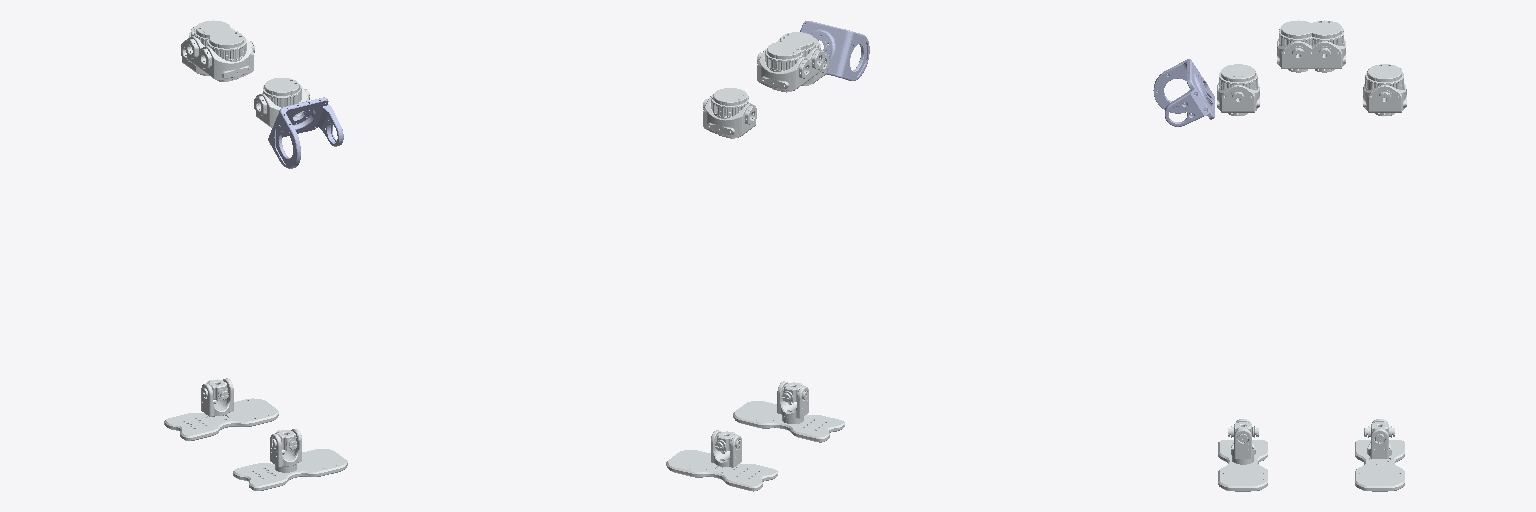
URDF robot description (fudan_humanoid):
<?xml version="1.0" encoding="utf-8"?>
<!-- This URDF was automatically created by SolidWorks to URDF Exporter! Originally created by [author] ([email redacted]) 
     Commit Version: 1.6.0-4-g7f85cfe  Build Version: 1.6.7995.38578
     For more information, please see http://wiki.ros.org/sw_urdf_exporter -->
<robot
  name="fudan_humanoid">
  <link
    name="base_link">
    <inertial>
      <origin
        xyz="0.00064614 0.0061342 0.13063"
        rpy="0 0 0" />
      <mass
        value="27.046" />
      <inertia
        ixx="1.4226"
        ixy="0.0028007"
        ixz="0.018165"
        iyy="1.0398"
        iyz="0.012265"
        izz="0.4681" />
    </inertial>
    <visual>
      <origin
        xyz="0 0 0"
        rpy="0 0 0" />
      <geometry>
        <mesh
          filename="../meshes/base_link.STL" />
      </geometry>
      <material
        name="">
        <color
          rgba="0.89804 0.91765 0.92941 1" />
      </material>
    </visual>
    <!-- <collision>
      <origin
        xyz="0 0 0"
        rpy="0 0 0" />
      <geometry>
        <mesh
          filename="../meshes/base_link.STL" />
      </geometry>
    </collision> -->
    <collision>
      <origin
        xyz="0 0. 0.1"
        rpy="0 0 0" />
      <geometry>
        <box size="0.4 0.4 0.4"/>
      </geometry>
    </collision>
  </link>
  <link
    name="left_leg_roll_link">
    <inertial>
      <origin
        xyz="-0.063328 0.10996 -0.062867"
        rpy="0 0 0" />
      <mass
        value="1.535" />
      <inertia
        ixx="0.002"
        ixy="0.0001925"
        ixz="-0.00011127"
        iyy="0.0015"
        iyz="-2.6116E-06"
        izz="0.0015" />
    </inertial>
    <visual>
      <origin
        xyz="0 0 0"
        rpy="0 0 0" />
      <geometry>
        <mesh
          filename="../meshes/left_leg_roll_link.STL" />
      </geometry>
      <material
        name="">
        <color
          rgba="0.89804 0.91765 0.92941 1" />
      </material>
    </visual>
    <collision>
      <origin
        xyz="0 0 0"
        rpy="0 0 0" />
      <geometry>
        <mesh
          filename="../meshes/left_leg_roll_link.STL" />
      </geometry>
    </collision>
  </link>
  <joint
    name="left_leg_roll_joint"
    type="revolute">
    <origin
      xyz="0 0.0264884942777566 -0.116000000000002"
      rpy="0 0 0" />
    <parent
      link="base_link" />
    <child
      link="left_leg_roll_link" />
    <axis
      xyz="0 -0.866025403784429 0.500000000000017" />
    <limit
      lower="-0.44"
      upper="1.57"
      effort="100"
      velocity="12" />
    <dynamics
      damping="0."
      friction="0." />
  </joint>
  <link
    name="left_leg_yaw_link">
    <inertial>
      <origin
        xyz="-0.057637 1.0925E-05 -0.006602"
        rpy="0 0 0" />
      <mass
        value="1.1586" />
      <inertia
        ixx="0.00071"
        ixy="4.0436E-07"
        ixz="5.5106E-07"
        iyy="0.00091"
        iyz="-2.5354E-08"
        izz="0.0014" />
    </inertial>
    <visual>
      <origin
        xyz="0 0 0"
        rpy="0 0 0" />
      <geometry>
        <mesh
          filename="../meshes/left_leg_yaw_link.STL" />
      </geometry>
      <material
        name="">
        <color
          rgba="0.89804 0.91765 0.92941 1" />
      </material>
    </visual>
    <collision>
      <origin
        xyz="0 0 0"
        rpy="0 0 0" />
      <geometry>
        <mesh
          filename="../meshes/left_leg_yaw_link.STL" />
      </geometry>
    </collision>
  </link>
  <joint
    name="left_leg_yaw_joint"
    type="revolute">
    <origin
      xyz="0.0579 0.119511505722243 -0.0689999999999984"
      rpy="0 0 0" />
    <parent
      link="left_leg_roll_link" />
    <child
      link="left_leg_yaw_link" />
    <axis
      xyz="1 0 0" />
    <limit
      lower="-1.05"
      upper="1.05"
      effort="100"
      velocity="12" />
    <dynamics
      damping="0."
      friction="0." />
  </joint>
  <link
    name="left_leg_pitch_link">
    <inertial>
      <origin
        xyz="0.00043634 0.0017182 -0.20249"
        rpy="0 0 0" />
      <mass
        value="3.6405" />
      <inertia
        ixx="0.0135"
        ixy="1.1779E-05"
        ixz="-3.6177E-05"
        iyy="0.0179"
        iyz="0.00028874"
        izz="0.0051" />
    </inertial>
    <visual>
      <origin
        xyz="0 0 0"
        rpy="0 0 0" />
      <geometry>
        <mesh
          filename="../meshes/left_leg_pitch_link.STL" />
      </geometry>
      <material
        name="">
        <color
          rgba="0.79216 0.81961 0.93333 1" />
      </material>
    </visual>
    <collision>
      <origin
        xyz="0 0 0"
        rpy="0 0 0" />
      <geometry>
        <mesh
          filename="../meshes/left_leg_pitch_link.STL" />
      </geometry>
    </collision>
  </link>
  <joint
    name="left_leg_pitch_joint"
    type="revolute">
    <origin
      xyz="-0.0579000000000937 0 0.0351"
      rpy="0 0 0" />
    <parent
      link="left_leg_yaw_link" />
    <child
      link="left_leg_pitch_link" />
    <axis
      xyz="0 0 1" />
   <limit
      lower="-1.57"
      upper="1.31"
      effort="250"
      velocity="12" />
    <dynamics
      damping="0."
      friction="0." />
  </joint>
  <link
    name="left_knee_link">
    <inertial>
      <origin
        xyz="0.0035379 -0.030016 -0.12582"
        rpy="0 0 0" />
      <mass
        value="2.7384" />
      <inertia
        ixx="0.018175"
        ixy="-3.7288E-06"
        ixz="0.00066617"
        iyy="0.019344"
        iyz="-1.8579E-05"
        izz="0.0016642" />
    </inertial>
    <visual>
      <origin
        xyz="0 0 0"
        rpy="0 0 0" />
      <geometry>
        <mesh
          filename="../meshes/left_knee_link.STL" />
      </geometry>
      <material
        name="">
        <color
          rgba="0.89804 0.91765 0.92941 1" />
      </material>
    </visual>
    <collision>
      <origin
        xyz="0 0 0"
        rpy="0 0 0" />
      <geometry>
        <mesh
          filename="../meshes/left_knee_link.STL" />
      </geometry>
    </collision>
  </link>
  <joint
    name="left_knee_joint"
    type="revolute">
    <origin
      xyz="0 0.0199999999998428 -0.4151"
      rpy="0 0 0" />
    <parent
      link="left_leg_pitch_link" />
    <child
      link="left_knee_link" />
    <axis
      xyz="0 1 0" />
    <limit
      lower="-1.05"
      upper="1.1"
      effort="250"
      velocity="12" />
    <dynamics
      damping="0."
      friction="0." />
  </joint>
  <link
    name="left_ankle_pitch_link">
    <inertial>
      <origin
        xyz="1.1404E-09 -0.0307 -2.5587E-10"
        rpy="0 0 0" />
      <mass
        value="0.12111" />
      <inertia
        ixx="1.5146E-05"
        ixy="2.6541E-14"
        ixz="-6.658E-13"
        iyy="1.5131E-05"
        iyz="-6.3545E-13"
        izz="1.6804E-05" />
    </inertial>
    <visual>
      <origin
        xyz="0 0 0"
        rpy="0 0 0" />
      <geometry>
        <mesh
          filename="../meshes/left_ankle_pitch_link.STL" />
      </geometry>
      <material
        name="">
        <color
          rgba="0.89804 0.91765 0.92941 1" />
      </material>
    </visual>
    <collision>
      <origin
        xyz="0 0 0"
        rpy="0 0 0" />
      <geometry>
        <mesh
          filename="../meshes/left_ankle_pitch_link.STL" />
      </geometry>
    </collision>
  </link>
  <joint
    name="left_ankle_pitch_joint"
    type="revolute">
    <origin
      xyz="0.015 0.000700000000000006 -0.37"
      rpy="0 0 0" />
    <parent
      link="left_knee_link" />
    <child
      link="left_ankle_pitch_link" />
    <axis
      xyz="0 1 0" />
    <limit
      lower="-0.44"
      upper="0.44"
      effort="100"
      velocity="12" />
    <dynamics
      damping="0."
      friction="0.1" />
  </joint>
  <link
    name="left_ankle_roll_link">
    <inertial>
      <origin
        xyz="-0.030692 0.00012078 -0.036331"
        rpy="0 0 0" />
      <mass
        value="0.21128" />
      <inertia
        ixx="7.0236E-05"
        ixy="2.1128E-08"
        ixz="1.1991E-08"
        iyy="0.00010632"
        iyz="1.2768E-07"
        izz="9.506E-05" />
    </inertial>
    <visual>
      <origin
        xyz="0 0 0"
        rpy="0 0 0" />
      <geometry>
        <mesh
          filename="../meshes/left_ankle_roll_link.STL" />
      </geometry>
      <material
        name="">
        <color
          rgba="0.89804 0.91765 0.92941 1" />
      </material>
    </visual>
    <collision>
      <origin
        xyz="0 0 0"
        rpy="0 0 0" />
      <geometry>
        <mesh
          filename="../meshes/left_ankle_roll_link.STL" />
      </geometry>
    </collision>
  </link>
  <joint
    name="left_ankle_roll_joint"
    type="revolute">
    <origin
      xyz="0.0307 -0.0307 0"
      rpy="0 0 0" />
    <parent
      link="left_ankle_pitch_link" />
    <child
      link="left_ankle_roll_link" />
    <axis
      xyz="1 0 0" />
    <limit
      lower="-0.44"
      upper="0.44"
      effort="100"
      velocity="12" />
    <dynamics
      damping="0."
      friction="0.1" />
  </joint>
  <link
    name="L_foot">
    <inertial>
      <origin
        xyz="0.016486 -3.9561E-06 0.0059825"
        rpy="0 0 0" />
      <mass
        value="0.58366" />
      <inertia
        ixx="0.00043428"
        ixy="2.1966E-07"
        ixz="1.6375E-06"
        iyy="0.0025408"
        iyz="1.4886E-09"
        izz="0.0029617" />
    </inertial>
    <visual>
      <origin
        xyz="0 0 0"
        rpy="0 0 0" />
      <geometry>
        <mesh
          filename="../meshes/L_foot.STL" />
      </geometry>
      <material
        name="">
        <color
          rgba="0.89804 0.91765 0.92941 1" />
      </material>
    </visual>
    <!-- <collision>
      <origin
        xyz="0 0 0"
        rpy="0 0 0" />
      <geometry>
        <mesh
          filename="../meshes/L_foot.STL" />
      </geometry>
    </collision> -->
    <collision>
      <origin
        xyz="0.07 0.0 0.0"
        rpy="0 0 0" />
      <geometry>
        <box size="0.35 0.1 0.01"/>
      </geometry>
    </collision>
  </link>
  <joint
    name="L_foot_joint"
    type="fixed">
    <origin
      xyz="-0.0307 0 -0.073"
      rpy="0 0 0" />
    <parent
      link="left_ankle_roll_link" />
    <child
      link="L_foot" />
    <axis
      xyz="0 0 0" />
  </joint>
  <link
    name="right_leg_roll_link">
    <inertial>
      <origin
        xyz="-0.010421 -0.088918 -0.051337"
        rpy="0 0 0" />
      <mass
        value="0.5141" />
      <inertia
        ixx="0.002"
        ixy="-0.00019277"
        ixz="-0.0001113"
        iyy="0.0015"
        iyz="2.0929E-06"
        izz="0.0015" />
    </inertial>
    <visual>
      <origin
        xyz="0 0 0"
        rpy="0 0 0" />
      <geometry>
        <mesh
          filename="../meshes/right_leg_roll_link.STL" />
      </geometry>
      <material
        name="">
        <color
          rgba="0.89804 0.91765 0.92941 1" />
      </material>
    </visual>
    <collision>
      <origin
        xyz="0 0 0"
        rpy="0 0 0" />
      <geometry>
        <mesh
          filename="../meshes/right_leg_roll_link.STL" />
      </geometry>
    </collision>
  </link>
  <joint
    name="right_leg_roll_joint"
    type="revolute">
    <origin
      xyz="0 -0.0264884942777566 -0.116000000000002"
      rpy="0 0 0" />
    <parent
      link="base_link" />
    <child
      link="right_leg_roll_link" />
    <axis
      xyz="0 0.866025403784429 0.500000000000017" />
    <limit
      lower="-1.57"
      upper="0.44"
      effort="100"
      velocity="12" />
    <dynamics
      damping="0."
      friction="0." />
  </joint>
  <link
    name="right_leg_yaw_link">
    <inertial>
      <origin
        xyz="-0.057763 -1.1171E-05 -0.006602"
        rpy="0 0 0" />
      <mass
        value="1.1586" />
      <inertia
        ixx="0.00071"
        ixy="4.0436E-07"
        ixz="8.7519E-07"
        iyy="0.00091"
        iyz="2.1334E-08"
        izz="0.0014" />
    </inertial>
    <visual>
      <origin
        xyz="0 0 0"
        rpy="0 0 0" />
      <geometry>
        <mesh
          filename="../meshes/right_leg_yaw_link.STL" />
      </geometry>
      <material
        name="">
        <color
          rgba="0.89804 0.91765 0.92941 1" />
      </material>
    </visual>
    <collision>
      <origin
        xyz="0 0 0"
        rpy="0 0 0" />
      <geometry>
        <mesh
          filename="../meshes/right_leg_yaw_link.STL" />
      </geometry>
    </collision>
  </link>
  <joint
    name="right_leg_yaw_joint"
    type="revolute">
    <origin
      xyz="0.0579 -0.119511505722243 -0.0689999999999984"
      rpy="0 0 0" />
    <parent
      link="right_leg_roll_link" />
    <child
      link="right_leg_yaw_link" />
    <axis
      xyz="1 0 0" />
    <limit
      lower="-1.05"
      upper="1.05"
      effort="100"
      velocity="12" />
    <dynamics
      damping="0."
      friction="0." />
  </joint>
  <link
    name="right_leg_pitch_link">
    <inertial>
      <origin
        xyz="0.00043958 -0.0017182 -0.20225"
        rpy="0 0 0" />
      <mass
        value="3.6408" />
      <inertia
        ixx="0.01356"
        ixy="-1.1554E-05"
        ixz="-3.4598E-05"
        iyy="0.017916"
        iyz="-0.00028693"
        izz="0.00518" />
    </inertial>
    <visual>
      <origin
        xyz="0 0 0"
        rpy="0 0 0" />
      <geometry>
        <mesh
          filename="../meshes/right_leg_pitch_link.STL" />
      </geometry>
      <material
        name="">
        <color
          rgba="0.79216 0.81961 0.93333 1" />
      </material>
    </visual>
    <collision>
      <origin
        xyz="0 0 0"
        rpy="0 0 0" />
      <geometry>
        <mesh
          filename="../meshes/right_leg_pitch_link.STL" />
      </geometry>
    </collision>
  </link>
  <joint
    name="right_leg_pitch_joint"
    type="revolute">
    <origin
      xyz="-0.0578999999999063 0 0.0351"
      rpy="0 0 0" />
    <parent
      link="right_leg_yaw_link" />
    <child
      link="right_leg_pitch_link" />
    <axis
      xyz="0 0 1" />
    <limit
      lower="-1.31"
      upper="1.57"
      effort="250"
      velocity="12" />
    <dynamics
      damping="0."
      friction="0." />
  </joint>
  <link
    name="right_knee_link">
    <inertial>
      <origin
        xyz="0.0035375 0.030016 -0.12581"
        rpy="0 0 0" />
      <mass
        value="2.7384" />
      <inertia
        ixx="0.018175"
        ixy="3.7377E-06"
        ixz="0.00066618"
        iyy="0.019344"
        iyz="1.9227E-05"
        izz="0.0016642" />
    </inertial>
    <visual>
      <origin
        xyz="0 0 0"
        rpy="0 0 0" />
      <geometry>
        <mesh
          filename="../meshes/right_knee_link.STL" />
      </geometry>
      <material
        name="">
        <color
          rgba="0.89804 0.91765 0.92941 1" />
      </material>
    </visual>
    <collision>
      <origin
        xyz="0 0 0"
        rpy="0 0 0" />
      <geometry>
        <mesh
          filename="../meshes/right_knee_link.STL" />
      </geometry>
    </collision>
  </link>
  <joint
    name="right_knee_joint"
    type="revolute">
    <origin
      xyz="0 -0.0199999999998428 -0.4151"
      rpy="0 0 0" />
    <parent
      link="right_leg_pitch_link" />
    <child
      link="right_knee_link" />
    <axis
      xyz="0 1 0" />
    <limit
      lower="-1.1"
      upper="1.05"
      effort="250"
      velocity="12" />
    <dynamics
      damping="0."
      friction="0." />
  </joint>
  <link
    name="right_ankle_pitch_link">
    <inertial>
      <origin
        xyz="1.1404E-09 0.0307 -2.5587E-10"
        rpy="0 0 0" />
      <mass
        value="0.12111" />
      <inertia
        ixx="1.5146E-05"
        ixy="2.6541E-14"
        ixz="-6.658E-13"
        iyy="1.5131E-05"
        iyz="-6.3545E-13"
        izz="1.6804E-05" />
    </inertial>
    <visual>
      <origin
        xyz="0 0 0"
        rpy="0 0 0" />
      <geometry>
        <mesh
          filename="../meshes/right_ankle_pitch_link.STL" />
      </geometry>
      <material
        name="">
        <color
          rgba="0.89804 0.91765 0.92941 1" />
      </material>
    </visual>
    <collision>
      <origin
        xyz="0 0 0"
        rpy="0 0 0" />
      <geometry>
        <mesh
          filename="../meshes/right_ankle_pitch_link.STL" />
      </geometry>
    </collision>
  </link>
  <joint
    name="right_ankle_pitch_joint"
    type="revolute">
    <origin
      xyz="0.015 -0.000700000000000006 -0.37"
      rpy="0 0 0" />
    <parent
      link="right_knee_link" />
    <child
      link="right_ankle_pitch_link" />
    <axis
      xyz="0 -1 0" />
    <limit
      lower="-0.87"
      upper="0.7"
      effort="100"
      velocity="12" />
    <dynamics
      damping="0."
      friction="0.1" />
  </joint>
  <link
    name="right_ankle_roll_link">
    <inertial>
      <origin
        xyz="-0.030692 0.00012078 -0.036331"
        rpy="0 0 0" />
      <mass
        value="0.21128" />
      <inertia
        ixx="7.0236E-05"
        ixy="2.1128E-08"
        ixz="1.1991E-08"
        iyy="0.00010632"
        iyz="1.2768E-07"
        izz="9.506E-05" />
    </inertial>
    <visual>
      <origin
        xyz="0 0 0"
        rpy="0 0 0" />
      <geometry>
        <mesh
          filename="../meshes/right_ankle_roll_link.STL" />
      </geometry>
      <material
        name="">
        <color
          rgba="0.89804 0.91765 0.92941 1" />
      </material>
    </visual>
    <collision>
      <origin
        xyz="0 0 0"
        rpy="0 0 0" />
      <geometry>
        <mesh
          filename="../meshes/right_ankle_roll_link.STL" />
      </geometry>
    </collision>
  </link>
  <joint
    name="right_ankle_roll_joint"
    type="revolute">
    <origin
      xyz="0.0307 0.0307 0"
      rpy="0 0 0" />
    <parent
      link="right_ankle_pitch_link" />
    <child
      link="right_ankle_roll_link" />
    <axis
      xyz="1 0 0" />
    <limit
      lower="-0.44"
      upper="0.44"
      effort="100"
      velocity="12" />
    <dynamics
      damping="0."
      friction="0.1" />
  </joint>
  <link
    name="R_foot">
    <inertial>
      <origin
        xyz="0.016486 -3.9561E-06 0.0059825"
        rpy="0 0 0" />
      <mass
        value="0.58366" />
      <inertia
        ixx="0.00043428"
        ixy="2.1966E-07"
        ixz="1.6375E-06"
        iyy="0.0025408"
        iyz="1.4886E-09"
        izz="0.0029617" />
    </inertial>
    <visual>
      <origin
        xyz="0 0 0"
        rpy="0 0 0" />
      <geometry>
        <mesh
          filename="../meshes/R_foot.STL" />
      </geometry>
      <material
        name="">
        <color
          rgba="0.89804 0.91765 0.92941 1" />
      </material>
    </visual>
    <!-- <collision>
      <origin
        xyz="0 0 0"
        rpy="0 0 0" />
      <geometry>
        <mesh
          filename="../meshes/R_foot.STL" />
      </geometry>
    </collision> -->
   <collision>
      <origin
        xyz="0.07 0.0 0.0"
        rpy="0 0 0" />
      <geometry>
        <box size="0.35 0.1 0.01"/>
      </geometry>
    </collision>
  </link>
  <joint
    name="R_foot_joint"
    type="fixed">
    <origin
      xyz="-0.0307 0 -0.0730000000000002"
      rpy="0 0 0" />
    <parent
      link="right_ankle_roll_link" />
    <child
      link="R_foot" />
    <axis
      xyz="0 0 0" />
  </joint>
</robot>

--- Facts derived from the render (not from the file) ---
The picture shows the robot from 3 angles, left to right: view 1: azimuth 30°, elevation 25°; view 2: azimuth 150°, elevation 25°; view 3: azimuth 270°, elevation 25°; orthographic projection.
Robot: fudan_humanoid — 15 links, 14 joints (12 revolute, 2 fixed); root link base_link; default pose: every joint at zero.
Visible links, largest first — view 1: right_leg_pitch_link, L_foot, right_leg_roll_link, R_foot, right_leg_yaw_link, left_leg_roll_link, right_ankle_roll_link, left_ankle_roll_link; view 2: L_foot, left_leg_yaw_link, left_leg_roll_link, right_leg_pitch_link, R_foot, right_leg_roll_link, right_ankle_roll_link, left_ankle_roll_link; view 3: right_leg_pitch_link, left_leg_yaw_link, L_foot, right_leg_yaw_link, R_foot, left_leg_roll_link, right_leg_roll_link, right_ankle_roll_link, left_ankle_roll_link.
Link boxes in pixels (bbox=[...]): right_leg_pitch_link: bbox=[268, 97, 343, 168]; L_foot: bbox=[164, 398, 278, 440]; right_leg_roll_link: bbox=[199, 30, 254, 81]; R_foot: bbox=[233, 449, 347, 490]; right_leg_yaw_link: bbox=[254, 78, 309, 127]; left_leg_roll_link: bbox=[185, 20, 237, 68]; right_ankle_roll_link: bbox=[270, 429, 301, 472]; left_ankle_roll_link: bbox=[201, 378, 233, 416]; L_foot: bbox=[666, 450, 777, 491]; left_leg_yaw_link: bbox=[703, 88, 756, 138]; left_leg_roll_link: bbox=[757, 42, 810, 92]; right_leg_pitch_link: bbox=[800, 21, 869, 80]; R_foot: bbox=[733, 401, 844, 442]; right_leg_roll_link: bbox=[772, 32, 824, 79]; right_ankle_roll_link: bbox=[777, 381, 808, 423]; left_ankle_roll_link: bbox=[711, 430, 741, 467]; right_leg_pitch_link: bbox=[1153, 59, 1214, 126]; left_leg_yaw_link: bbox=[1363, 64, 1406, 115]; L_foot: bbox=[1355, 440, 1404, 491]; right_leg_yaw_link: bbox=[1217, 64, 1259, 115]; R_foot: bbox=[1218, 440, 1267, 491]; left_leg_roll_link: bbox=[1308, 20, 1345, 72]; right_leg_roll_link: bbox=[1277, 20, 1314, 72]; right_ankle_roll_link: bbox=[1231, 419, 1255, 464]; left_ankle_roll_link: bbox=[1367, 419, 1391, 458].
Bounding box of the posed robot: 0.2521 × 0.5035 × 0.9271 m (x, y, z).
Meshes: 15 distinct files referenced, 11 mesh visuals loaded (11 binary STL); not drawn: 4 (reference not matched to a file when rendering).